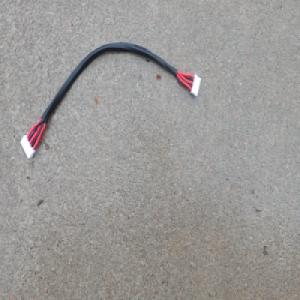Wire: (19, 39, 202, 161)
